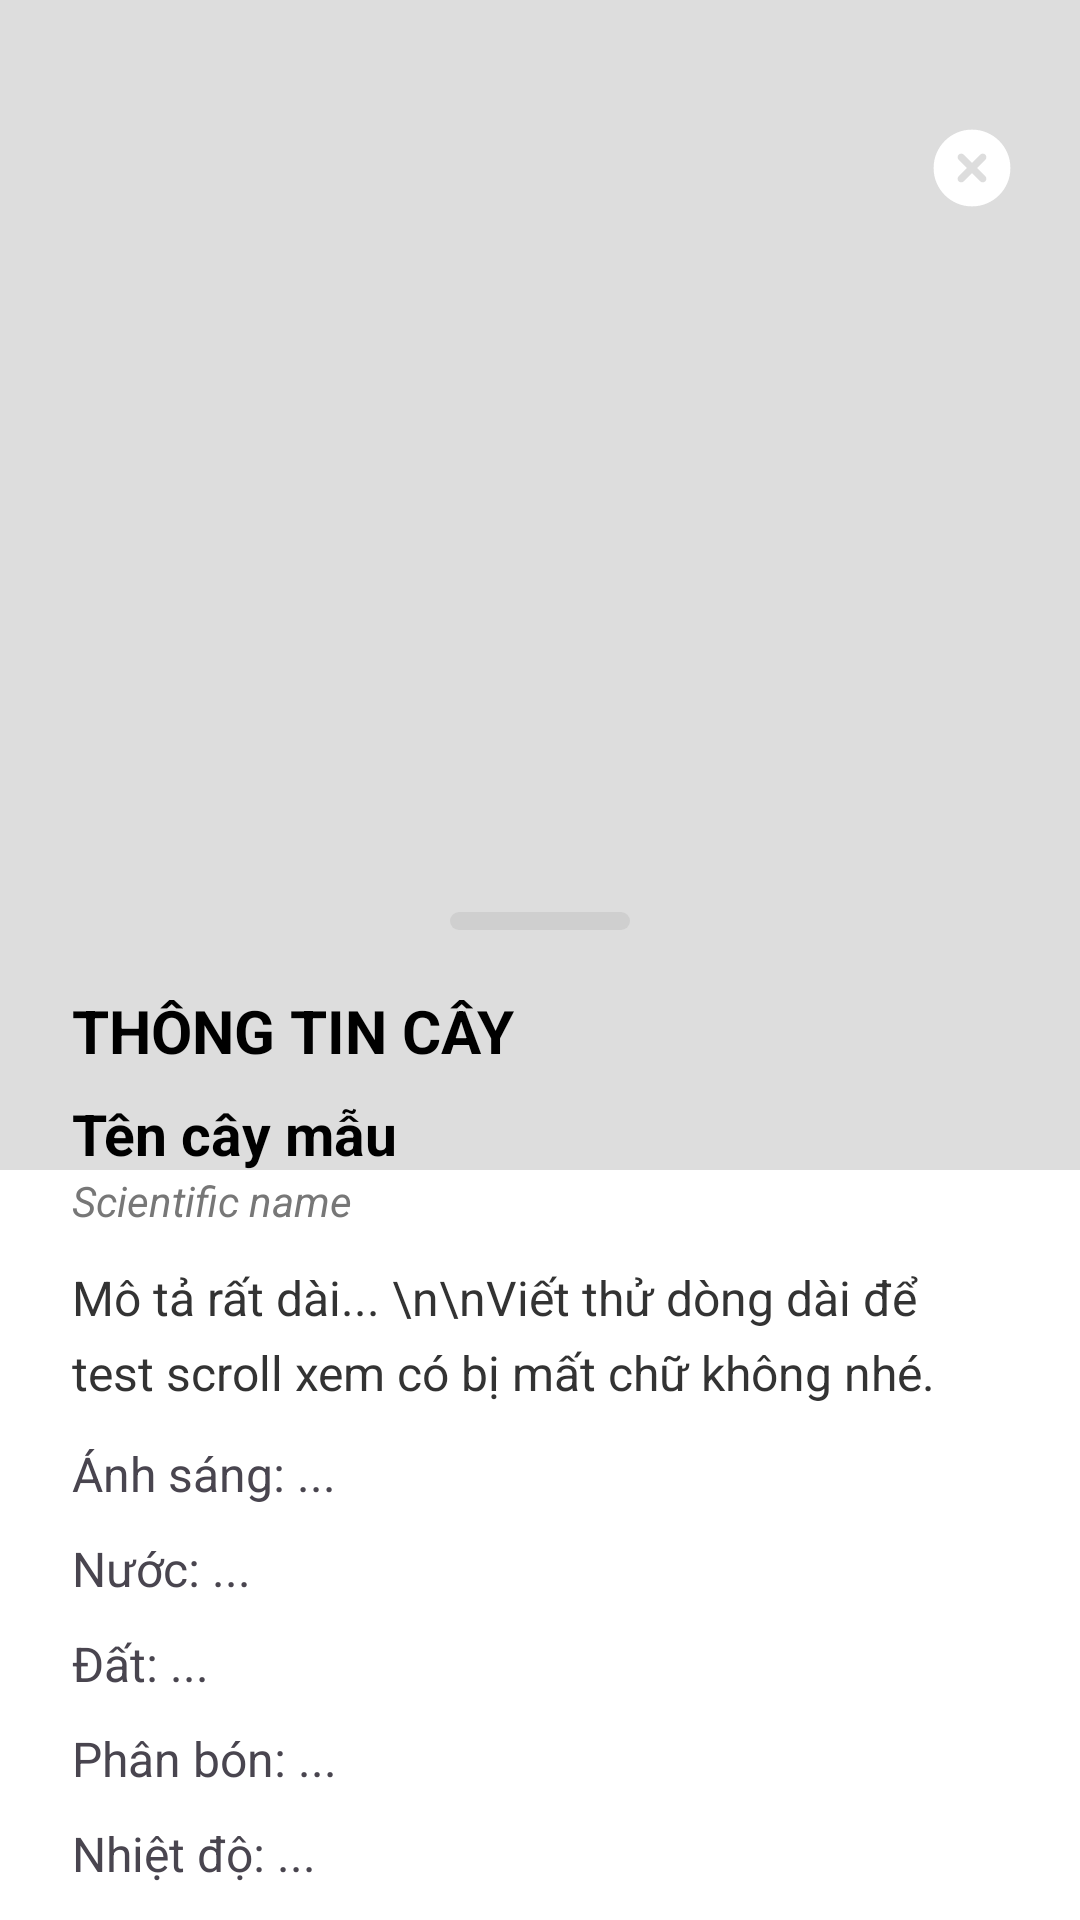

Icon bounding boxes for this 1080×1920 phone screenshot, format (x1, y1, x2, y2):
circle xmark full: (934, 130, 1010, 206)
